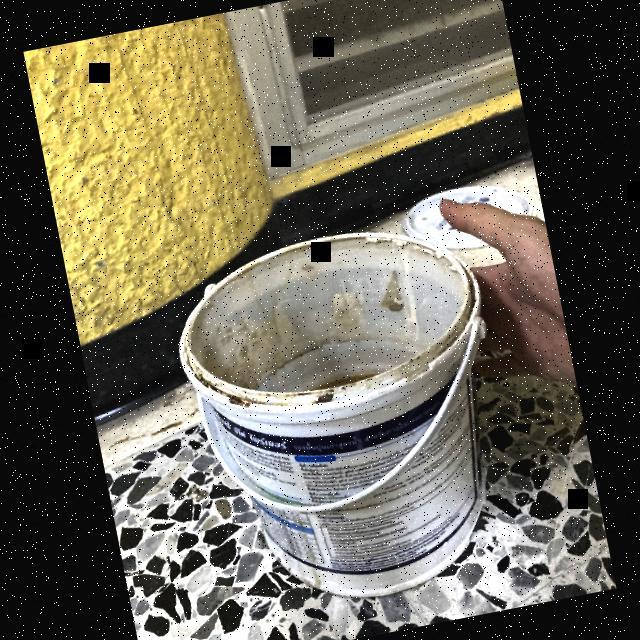paint_bucket: (162, 204, 534, 627)
